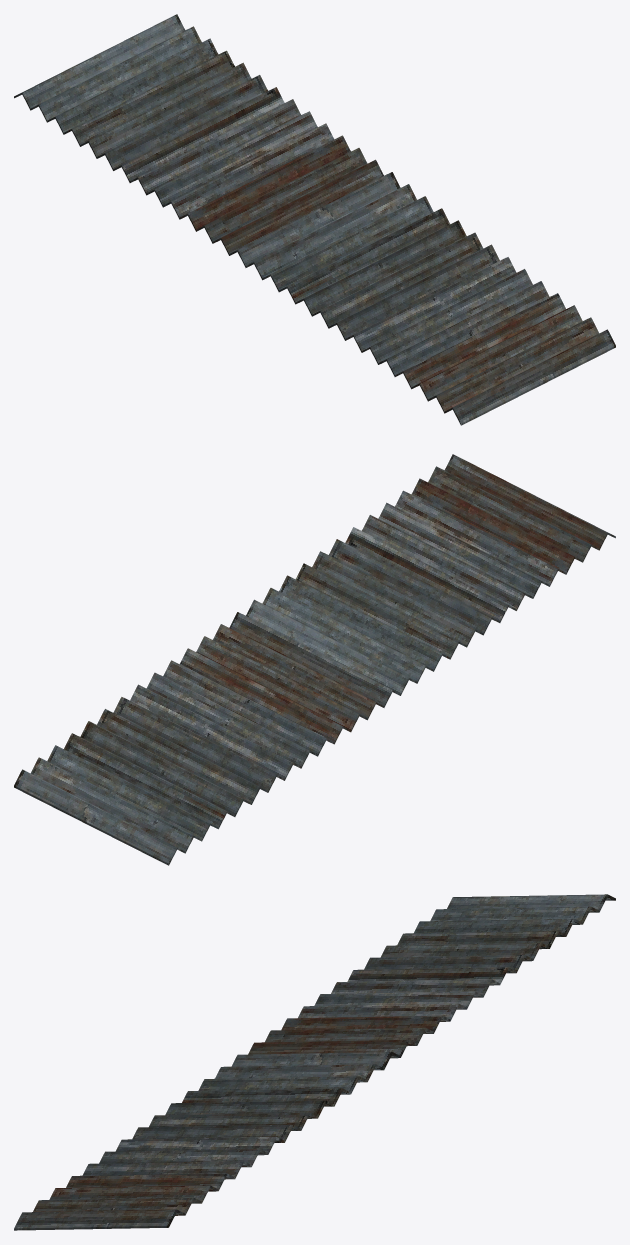
File: roof_hr_3_side_1_angle.glb
3 renders of one model, top to bottom at view 1: azimuth 30°, elevation 25°; view 2: azimuth 150°, elevation 25°; view 3: azimuth 330°, elevation 25°, orthographic.
Parts seen in each view (by area): view 1: roof_hr_3_side_1_angle; view 2: roof_hr_3_side_1_angle; view 3: roof_hr_3_side_1_angle.
Part boxes in pixels (left/top/right/bottom): roof_hr_3_side_1_angle: left=14, top=14, right=615, bottom=425; roof_hr_3_side_1_angle: left=14, top=454, right=615, bottom=865; roof_hr_3_side_1_angle: left=14, top=894, right=615, bottom=1230.
Size of the model in its own units: 0.8 by 0.26 by 4.
1 material, 1 textured.
